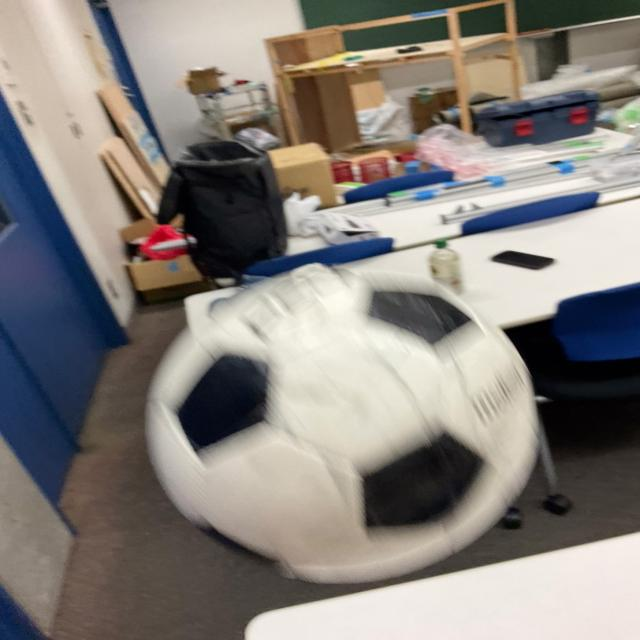ball: (144, 267, 538, 586)
